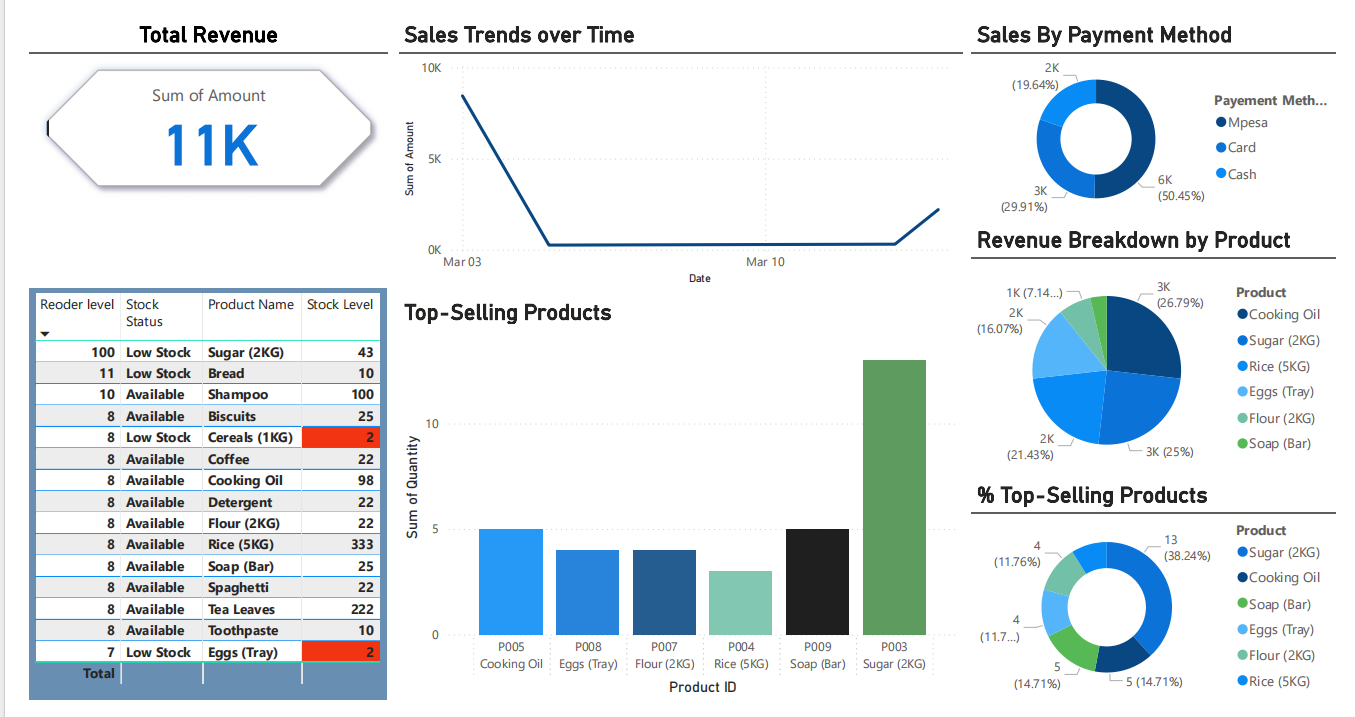

Layout of this report page (visuals, bound fields, positions):
{"tool":"powerbi","page":{"name":"Sales ","canvas":[1280,720],"ordinal":0},"visuals":[{"type":"clusteredColumnChart","title":"Top-Selling Products","fields":{"Y":["Sum(POS_Sales.Quantity)"],"Category":["POS_Sales.Product","POS_Sales.Product ID"]},"box":[362.2,328,551.9,391.8],"z":0},{"type":"donutChart","title":"Sales By Payment Method","fields":{"Category":["POS_Sales.Payement Method"],"Y":["Sum(POS_Sales.Amount)"]},"box":[923.5,56,356,197.4],"z":1000},{"type":"lineChart","title":"Sales Trends over Time","fields":{"Y":["Sum(POS_Sales.Amount)"],"Category":["POS_Sales.Date"]},"box":[362.2,56,551.9,261.2],"z":2000},{"type":"cardVisual","title":"Total Revenue","fields":{"Data":["Sum(POS_Sales.Amount)"]},"box":[0,56,351.4,177.2],"z":2001},{"type":"tableEx","fields":{"Values":["Inventory Management.Reoder level","Inventory Management.Stock Status","Inventory Management.Product Name","Inventory Management.Stock Level"]},"box":[0,317.2,349.8,402.7],"z":2002},{"type":"pieChart","title":"Revenue Breakdown by Product","fields":{"Y":["Sum(POS_Sales.Amount)"],"Category":["POS_Sales.Product"]},"box":[923.5,256.5,356,248.7],"z":2003},{"type":"donutChart","title":"% Top-Selling Products","fields":{"Y":["Sum(POS_Sales.Quantity)"],"Category":["POS_Sales.Product"]},"box":[923.5,506.8,356,213],"z":2004}]}

Visuals, with their boxes on the page's 1280x720 design canvas (x1, y1, x2, y2). These are canvas units, not pixel positions in the 1355x717 screenshot, which may show the page scaled, cropped or inside an application window:
"Top-Selling Products" clusteredColumnChart: region(362, 328, 914, 720)
"Sales By Payment Method" donutChart: region(924, 56, 1280, 253)
"Sales Trends over Time" lineChart: region(362, 56, 914, 317)
"Total Revenue" cardVisual: region(0, 56, 351, 233)
tableEx - Inventory Management.Reoder level x Inventory Management.Stock Status: region(0, 317, 350, 720)
"Revenue Breakdown by Product" pieChart: region(924, 256, 1280, 505)
"% Top-Selling Products" donutChart: region(924, 507, 1280, 720)
